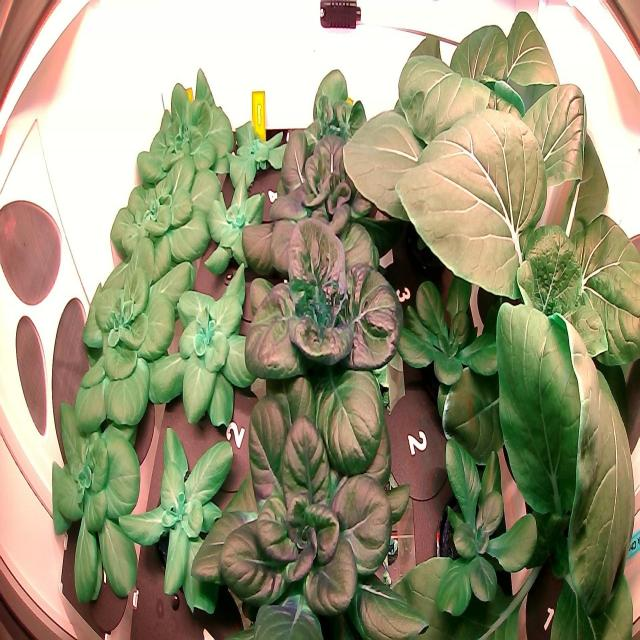young: (185, 369, 432, 640), (230, 187, 419, 485), (112, 406, 244, 630), (70, 231, 194, 437), (257, 101, 405, 270), (432, 428, 547, 638), (40, 399, 146, 624), (138, 239, 261, 432), (391, 245, 520, 412), (109, 150, 224, 288), (133, 65, 239, 192), (282, 56, 378, 176), (199, 167, 273, 284), (222, 111, 292, 198)
